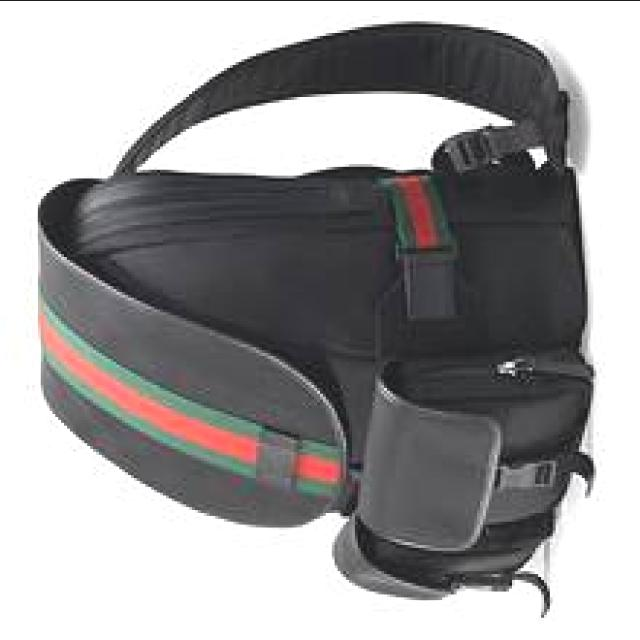backpack: (36, 22, 594, 618)
